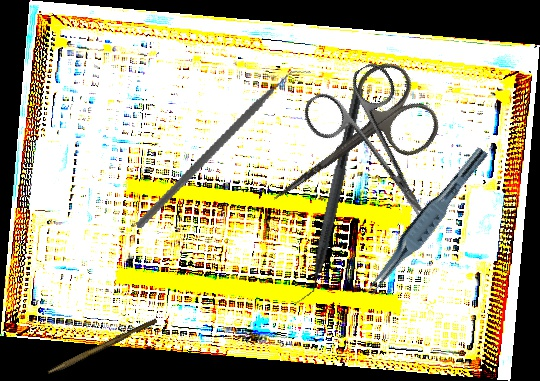Chopper: (134, 40, 313, 259), (292, 84, 364, 311)
Iris Scissors: (244, 53, 450, 238), (297, 58, 462, 245)
Scalpel Handle: (46, 315, 159, 379)
Tissue Forceps: (361, 140, 490, 303)
